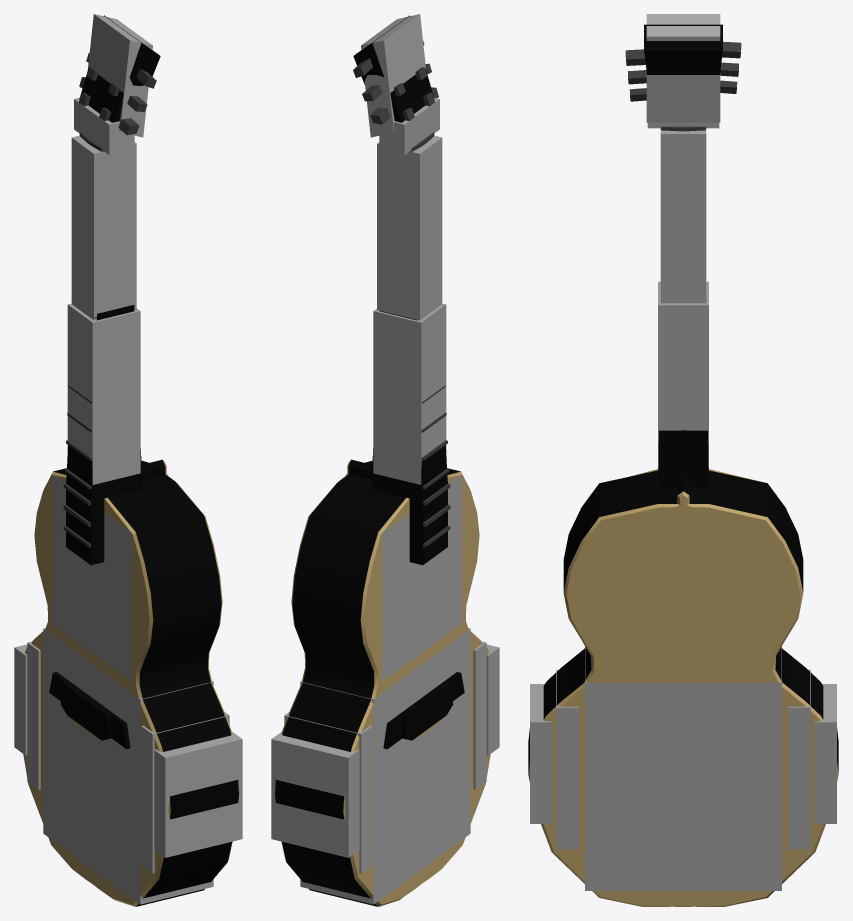
File: guitar.fbx
3 renders of one model, left to right at view 1: azimuth 30°, elevation 25°; view 2: azimuth 150°, elevation 25°; view 3: azimuth 270°, elevation 25°, orthographic.
Visible parts, largest first — view 1: guitar, guitarBody1, guitarStem1, guitarStem2, guitarBody, guitarBody3, stem3, guitarBody2, guitarBody5, stem4, guitarBody6; view 2: guitar, guitarBody1, guitarStem1, guitarStem2, guitarBody, guitarBody6, stem3, guitarBody5, guitarBody2, stem4, guitarBody3; view 3: guitar, guitarBody4, guitarStem2, guitarStem1, stem3, guitarBody2, guitarBody5, guitarBody3, guitarBody6.
Boxes of the visible parts, bbox=[...] form: guitar: bbox=[23, 15, 239, 906]; guitarBody1: bbox=[43, 628, 199, 904]; guitarStem1: bbox=[67, 303, 140, 484]; guitarStem2: bbox=[71, 135, 136, 320]; guitarBody: bbox=[52, 474, 131, 681]; guitarBody3: bbox=[154, 732, 242, 857]; stem3: bbox=[88, 14, 152, 137]; guitarBody2: bbox=[141, 712, 229, 873]; guitarBody5: bbox=[27, 641, 40, 789]; stem4: bbox=[74, 97, 134, 154]; guitarBody6: bbox=[14, 644, 27, 755]; guitar: bbox=[274, 15, 490, 906]; guitarBody1: bbox=[314, 628, 470, 904]; guitarStem1: bbox=[373, 303, 446, 484]; guitarStem2: bbox=[377, 135, 442, 320]; guitarBody: bbox=[382, 474, 461, 681]; guitarBody6: bbox=[271, 731, 359, 857]; stem3: bbox=[361, 14, 425, 137]; guitarBody5: bbox=[284, 712, 372, 873]; guitarBody2: bbox=[473, 641, 486, 789]; stem4: bbox=[379, 97, 439, 154]; guitarBody3: bbox=[486, 644, 499, 755]; guitar: bbox=[528, 24, 838, 906]; guitarBody4: bbox=[585, 676, 781, 890]; guitarStem2: bbox=[660, 129, 706, 303]; guitarStem1: bbox=[658, 281, 708, 469]; stem3: bbox=[646, 14, 720, 122]; guitarBody2: bbox=[556, 669, 578, 849]; guitarBody5: bbox=[788, 669, 810, 849]; guitarBody3: bbox=[530, 684, 552, 823]; guitarBody6: bbox=[814, 684, 836, 823].
Size of the model in its own units: 1.54 by 13.84 by 4.48.
